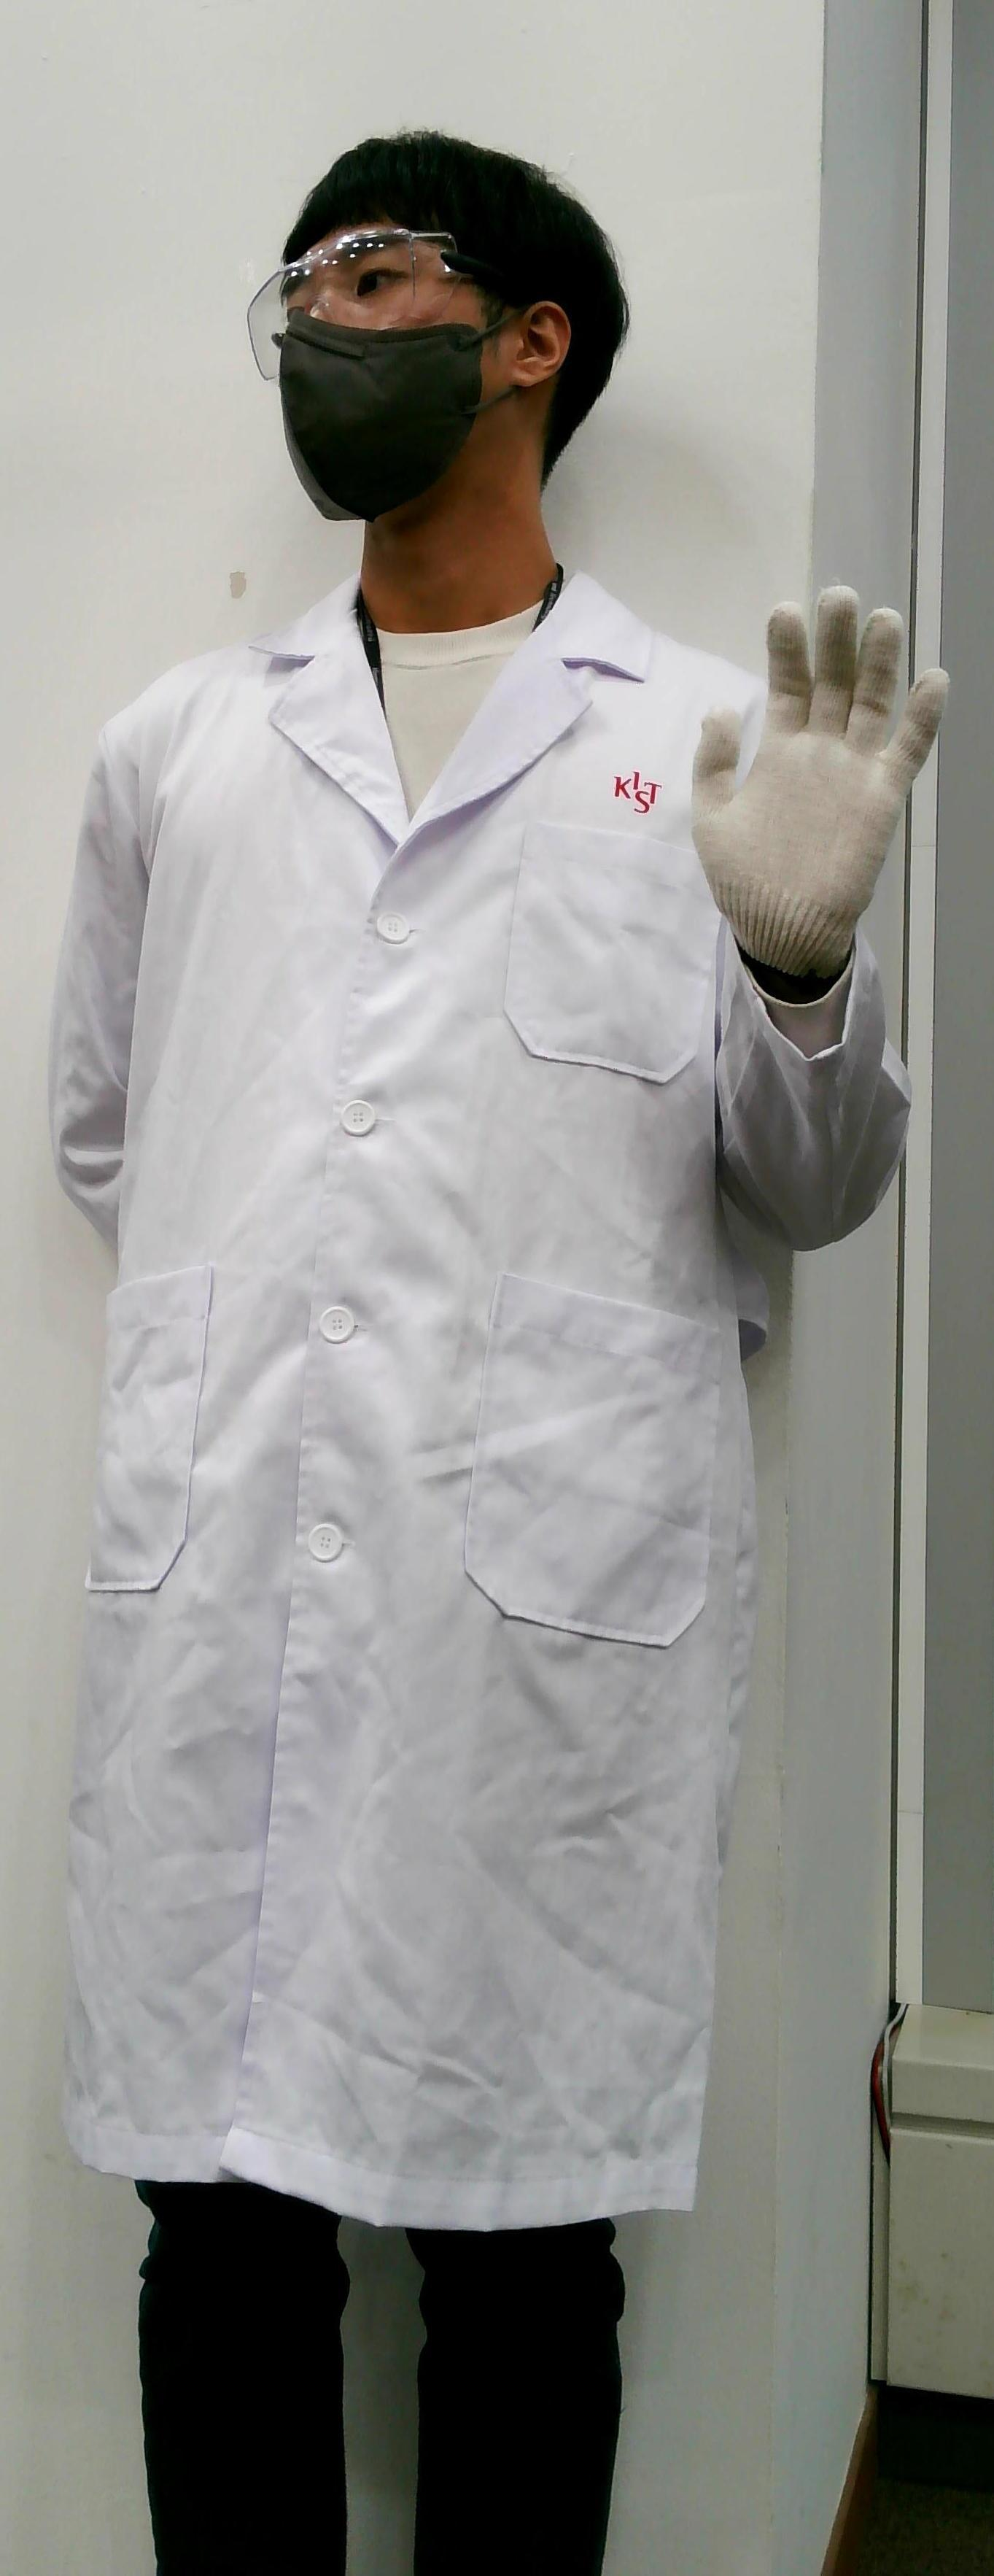lab_coat: (61, 644, 723, 2196)
